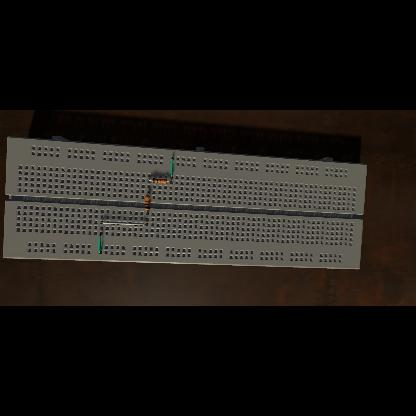breadboard: (3, 136, 367, 270)
resistor: (152, 178, 168, 184), (145, 196, 150, 210)
wire: (100, 222, 148, 226), (98, 233, 102, 253), (170, 158, 173, 178), (148, 180, 152, 182), (168, 181, 172, 183), (148, 192, 150, 196), (147, 210, 149, 214)
